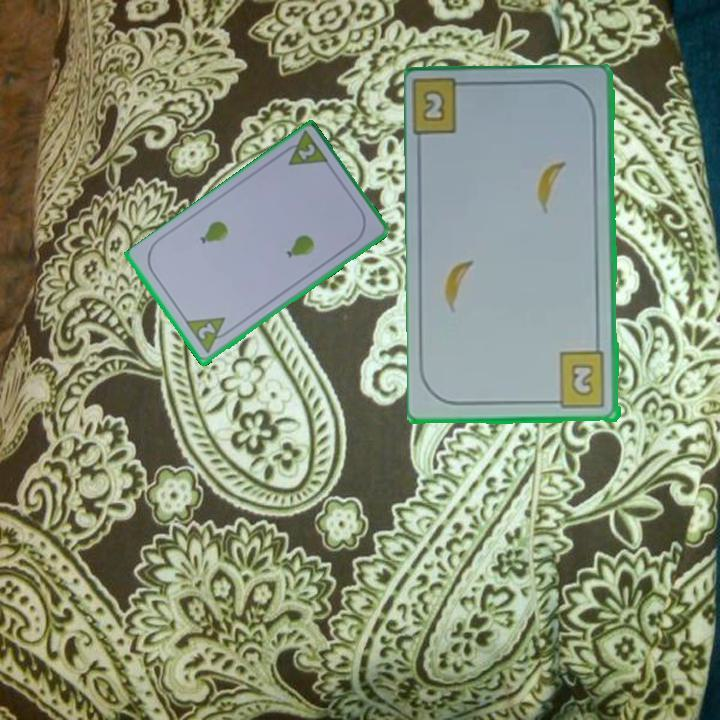2b: (412, 79, 477, 141), (547, 349, 608, 411)
2p: (276, 128, 332, 169), (194, 320, 218, 343)
